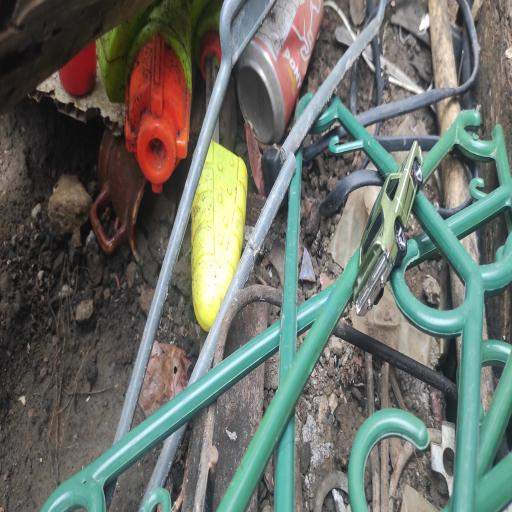Carrito: (353, 142, 423, 316)
